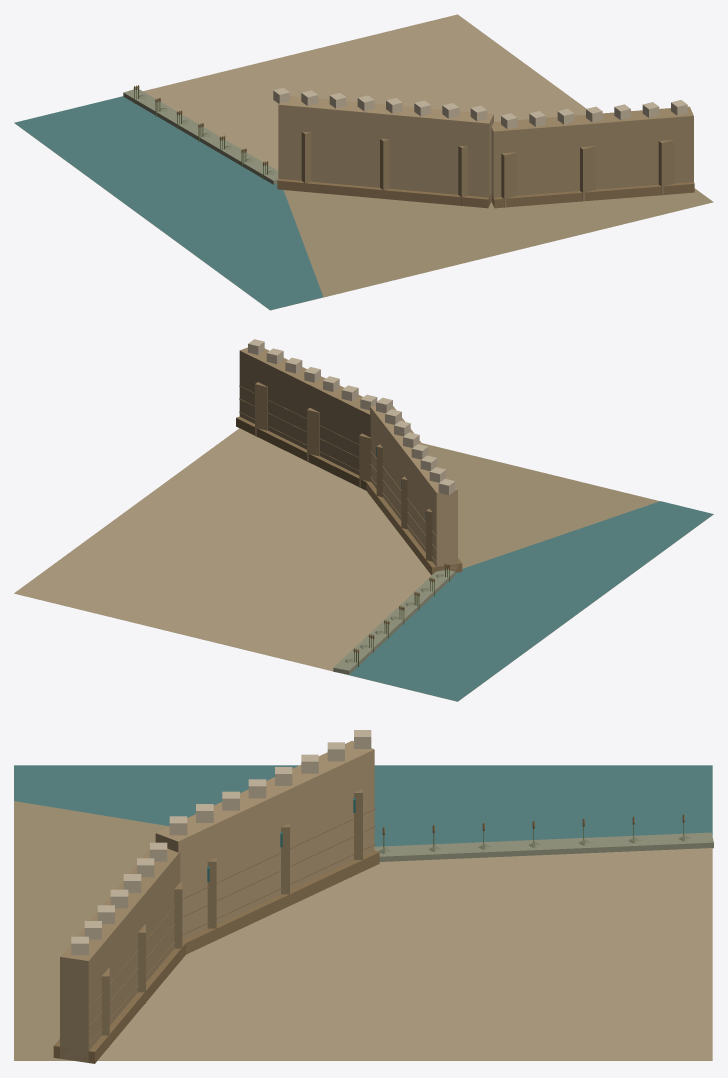
File: city-boundary--2_1.glb
3 views of the same model, one above another, from view 1: azimuth 30°, elevation 25°; view 2: azimuth 150°, elevation 25°; view 3: azimuth 270°, elevation 25° (orthographic). The views are drawn at different scales.
Visible parts, largest first — view 1: city-boundary--2_1; view 2: city-boundary--2_1; view 3: city-boundary--2_1.
Boxes of the visible parts, <box> form: city-boundary--2_1: <box>14,14,713,310</box>; city-boundary--2_1: <box>14,339,713,701</box>; city-boundary--2_1: <box>14,730,713,1063</box>.
Bounding box in the file's own units: 32.33 × 6.31 × 32.05.
